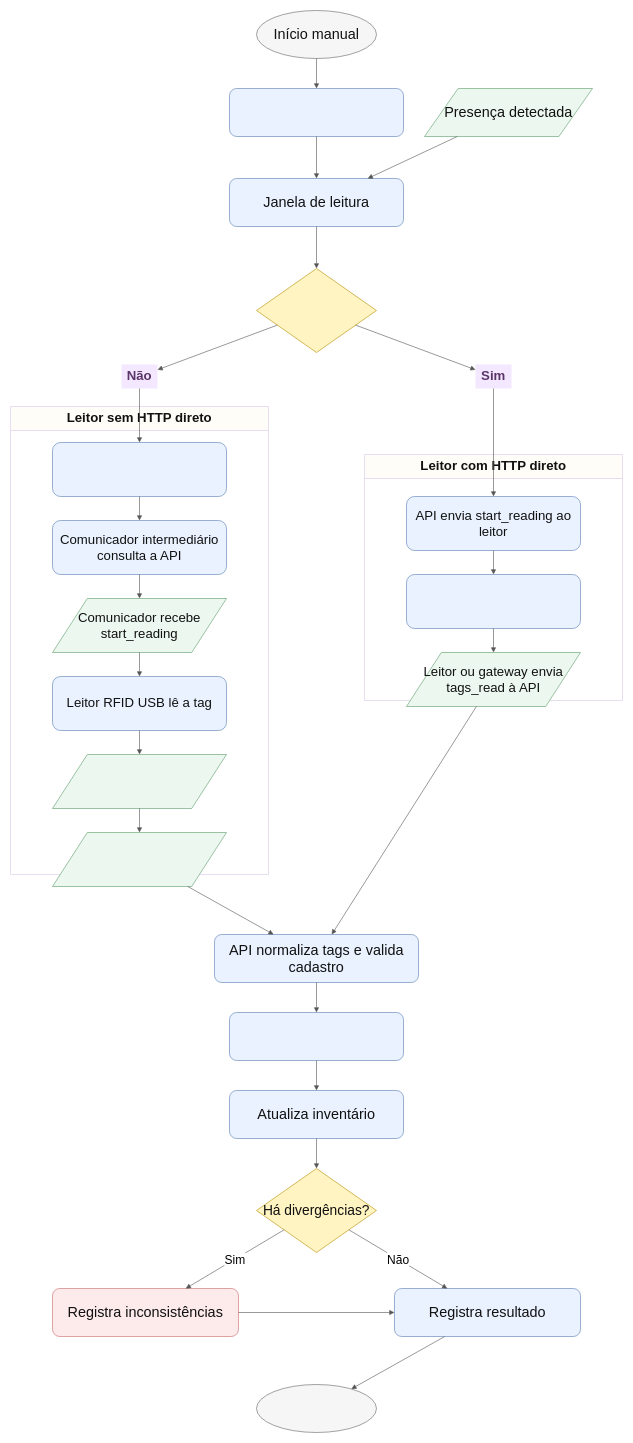
Image size: 633x1443. Some labels were removed from this diagram. The centre of each missing label's shape, as x and y in pixels:
Aciona auditoria: point (316, 112)
API mantém comando disponível para consulta: point (139, 469)
Compara itens: point (316, 1036)
Comunicador envia tags_read à API: point (139, 859)
Consulta disponível: point (316, 1408)
Leitor possui HTTP direto?: point (316, 310)
Leitor repassa UID ao comunicador: point (139, 781)
Leitor RFID de longa distância lê a tag: point (493, 601)
